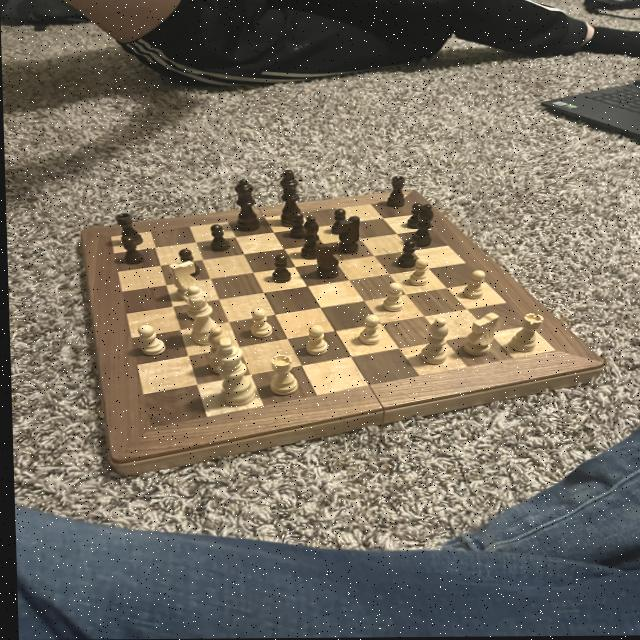bishop: (407, 202, 436, 249), (294, 215, 323, 262)
black-bishop: (273, 167, 307, 230)
black-king: (304, 241, 343, 283), (327, 214, 363, 256)
black-knight: (115, 235, 146, 269), (173, 247, 203, 281), (390, 240, 418, 271), (401, 199, 429, 230), (265, 254, 292, 285), (205, 224, 232, 253), (284, 212, 311, 240), (328, 207, 346, 237)
black-pawn: (229, 176, 261, 234)
black-queen: (110, 211, 144, 248), (383, 174, 406, 211)
black-rook: (412, 315, 450, 368), (202, 323, 237, 378)
white-bishop: (208, 337, 256, 410)
white-king: (458, 311, 500, 360), (160, 258, 203, 304)
white-knight: (132, 322, 166, 359), (243, 306, 273, 342), (354, 313, 384, 347), (301, 324, 329, 359), (376, 282, 406, 313), (459, 269, 486, 302), (404, 257, 428, 288)
white-pawn: (178, 286, 220, 347)
white-queen: (504, 312, 545, 355), (263, 354, 300, 399)
